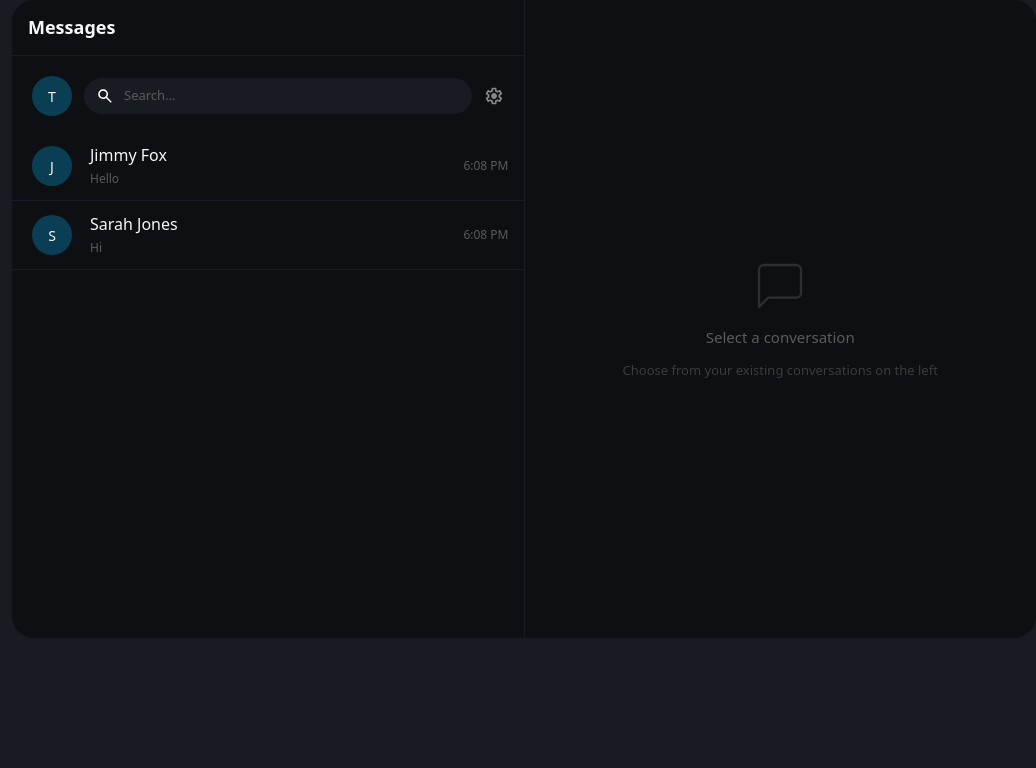
Messages page › should filter conversations by search
expect the text "Jimmy Fox" is shown: met, box [90,144,167,166]
In the field with placeholder "Search...": point(293, 96) [124,86,462,106], type "Sarah"
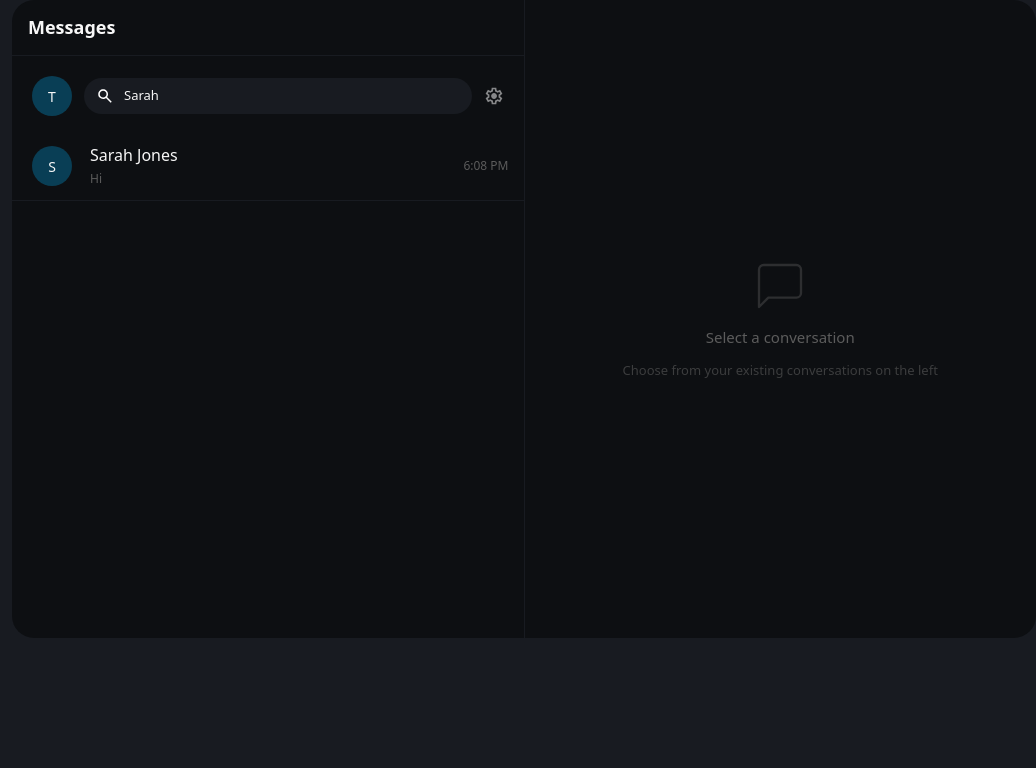
expect the text "Sarah Jones" is shown: met, box [90,144,178,166]
expect the button "Jimmy Fox" is gone: met
